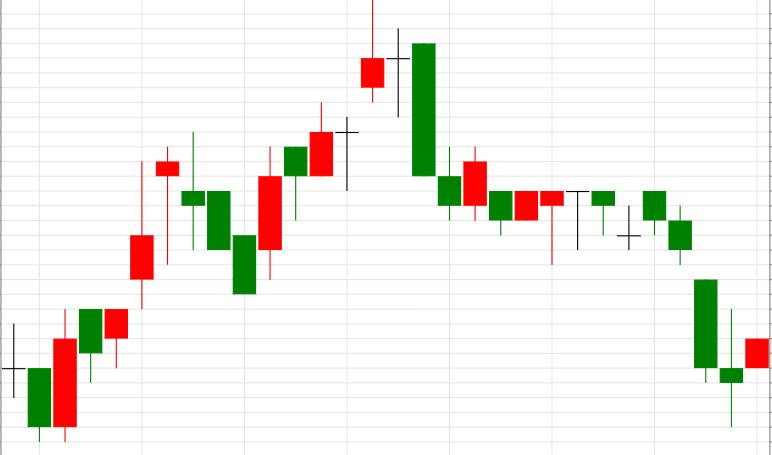morning_star_rise: (592, 191, 769, 427)
shooting_star_fall: (28, 162, 153, 442), (259, 0, 384, 279)
